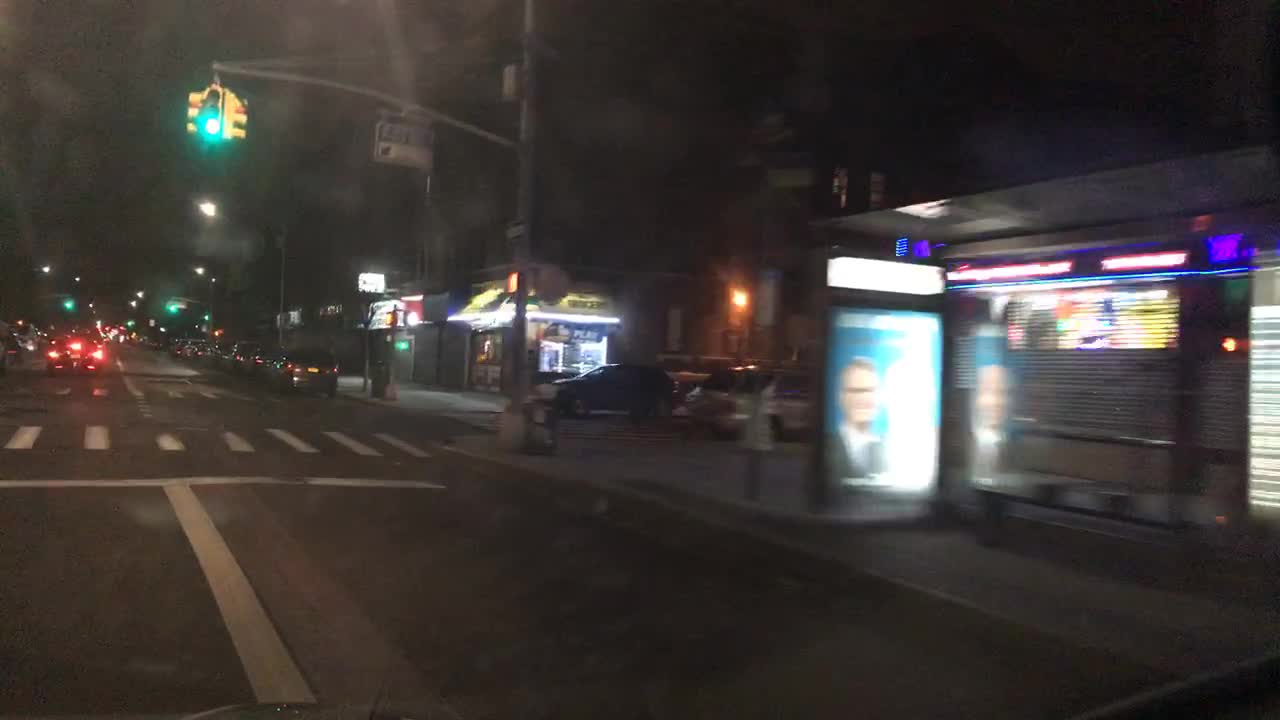car: (682, 360, 820, 443), (543, 364, 678, 423), (266, 347, 340, 393), (44, 337, 111, 377), (246, 347, 285, 386), (226, 340, 256, 371), (13, 320, 40, 354), (0, 337, 22, 377), (201, 342, 231, 364), (91, 327, 111, 349), (189, 339, 207, 361), (165, 335, 179, 361), (118, 329, 138, 345), (177, 340, 192, 361), (64, 325, 84, 339), (40, 332, 52, 347), (147, 339, 160, 352)
traffic light: (185, 87, 202, 138), (226, 97, 246, 138), (206, 79, 219, 138), (729, 286, 752, 313), (508, 271, 521, 300), (391, 335, 410, 352), (405, 307, 417, 329), (384, 312, 396, 327), (202, 308, 209, 325), (212, 327, 219, 340), (170, 300, 175, 315), (126, 317, 131, 330), (67, 298, 71, 313), (94, 315, 98, 329)
traffic sign: (371, 122, 435, 172), (503, 221, 525, 239)
